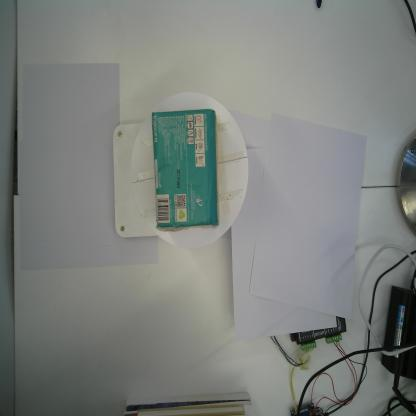Tissue: (150, 107, 219, 232)
